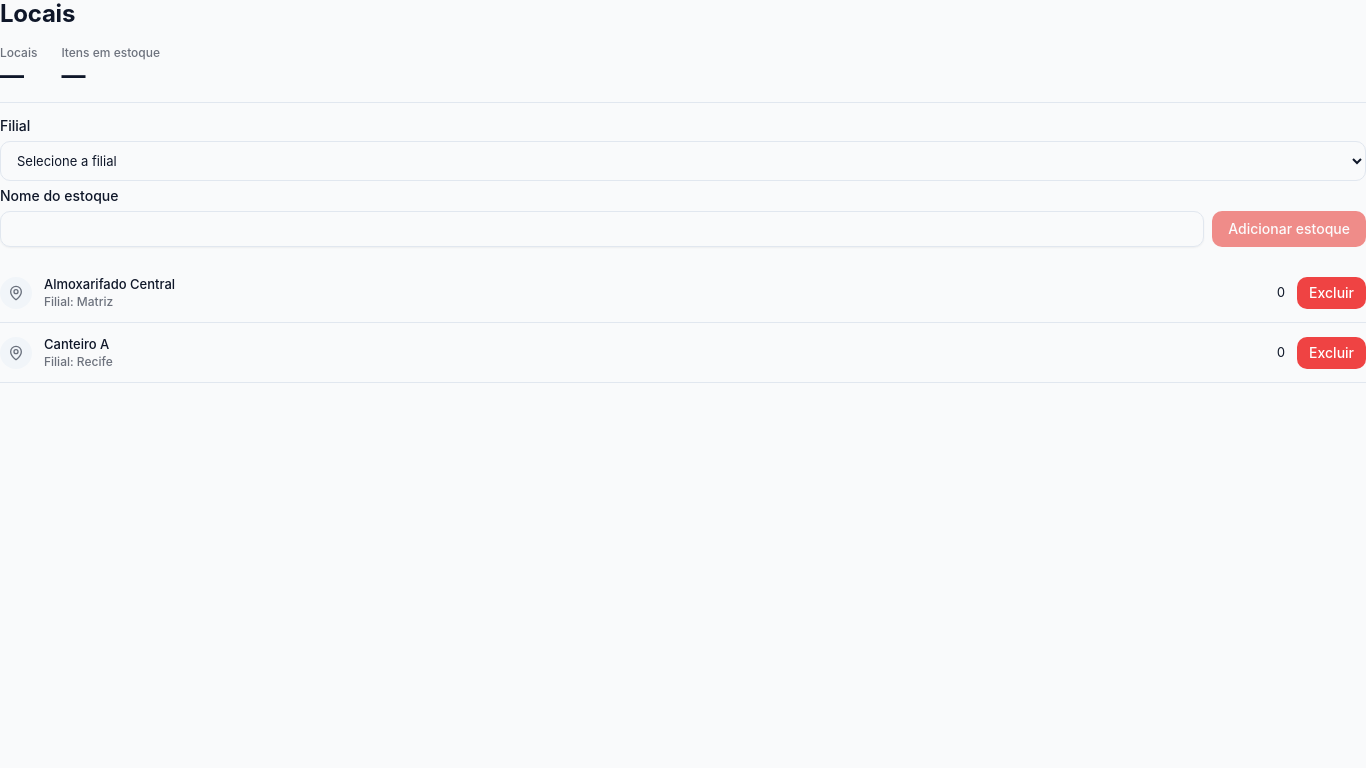
LocaisEstoqueSection › DELETE !ok mostra o role="alert" genérico e recarrega a lista
The image size is (1366, 768).
Check: the text "Almoxarifado Central" is shown, box [44, 276, 175, 292]
What coordinates should you click on to do the following:
click the button with aria-label "Excluir estoque Almoxarifado Central"
I would click on:
 (1332, 293)
Its box is [1297, 277, 1365, 309].
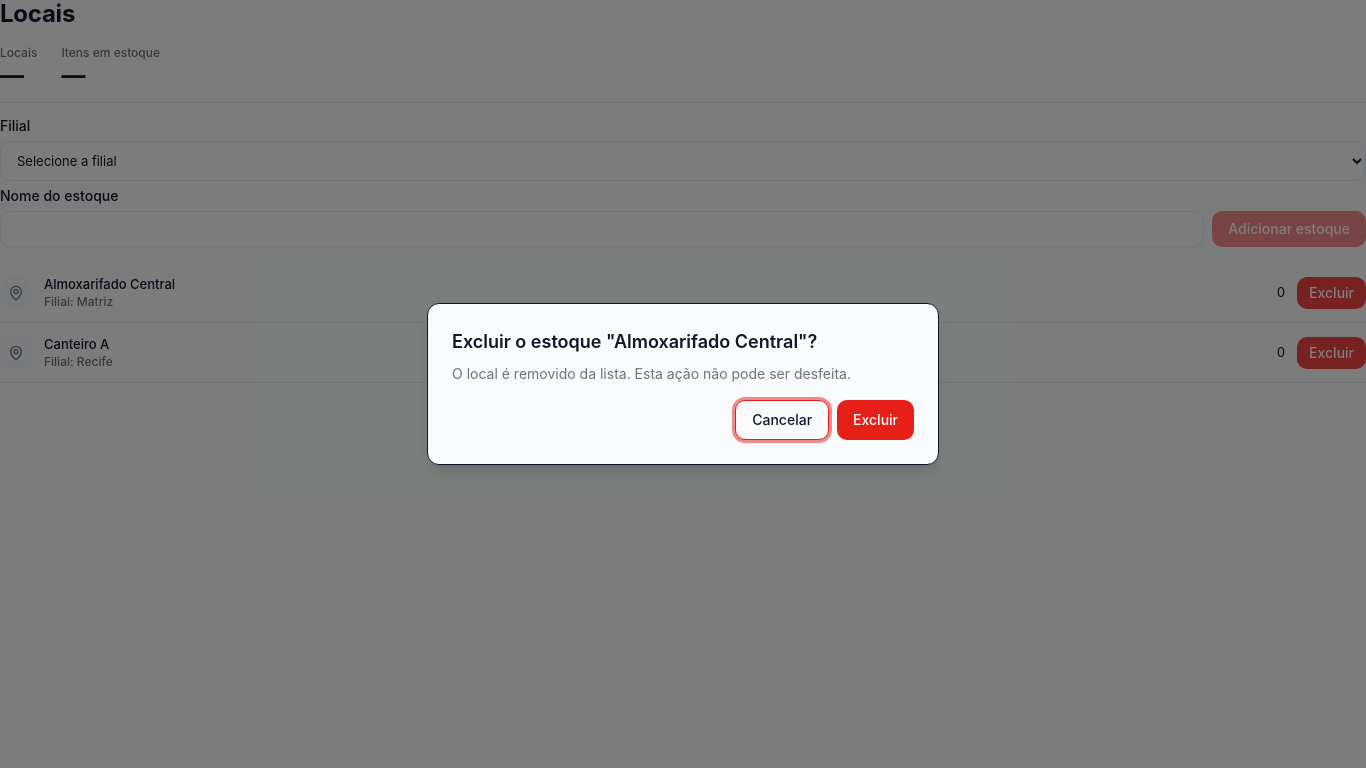
What coordinates should you click on to do the following:
click the button "Excluir"
I would click on:
 (876, 420)
Its box is [837, 400, 914, 440].
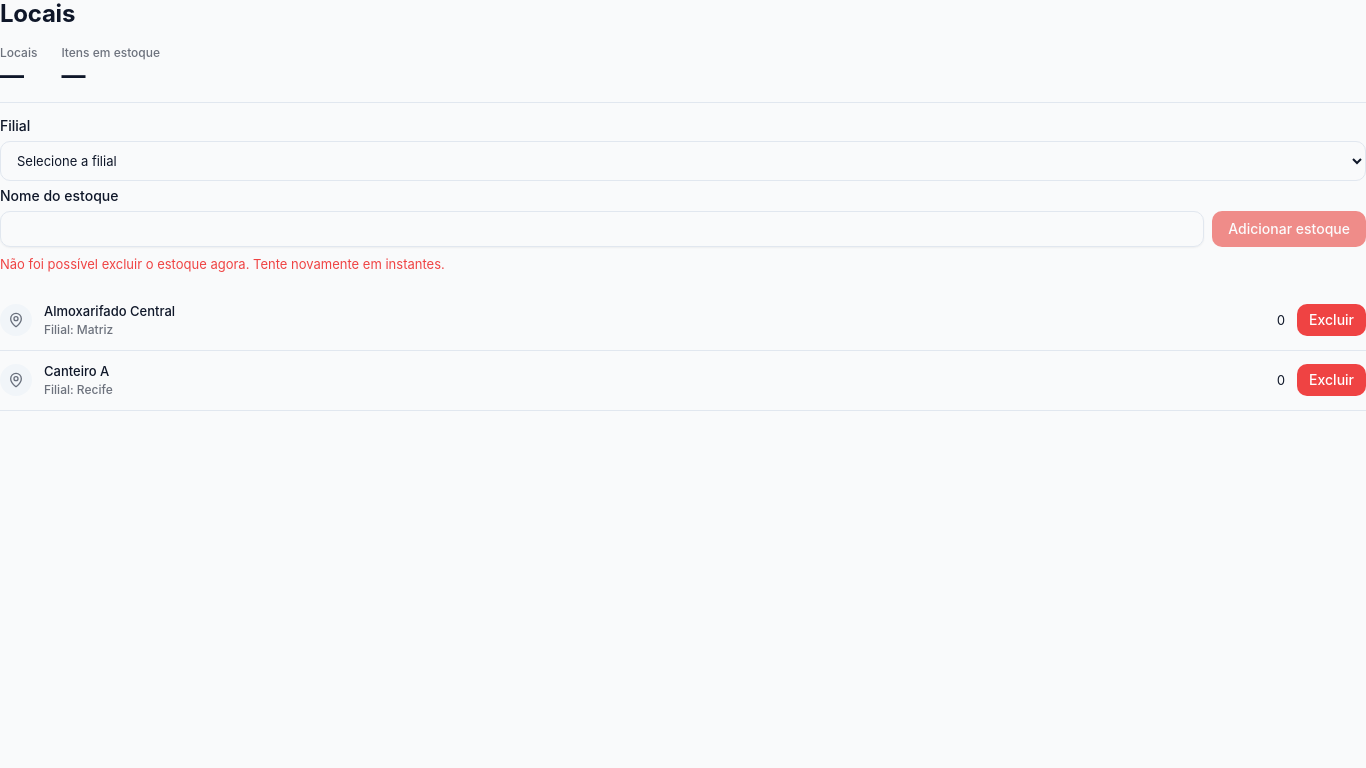
Check: the message reads "Não foi possível excluir o estoque agora. Tente novamente em instantes.", box [0, 256, 445, 272]
